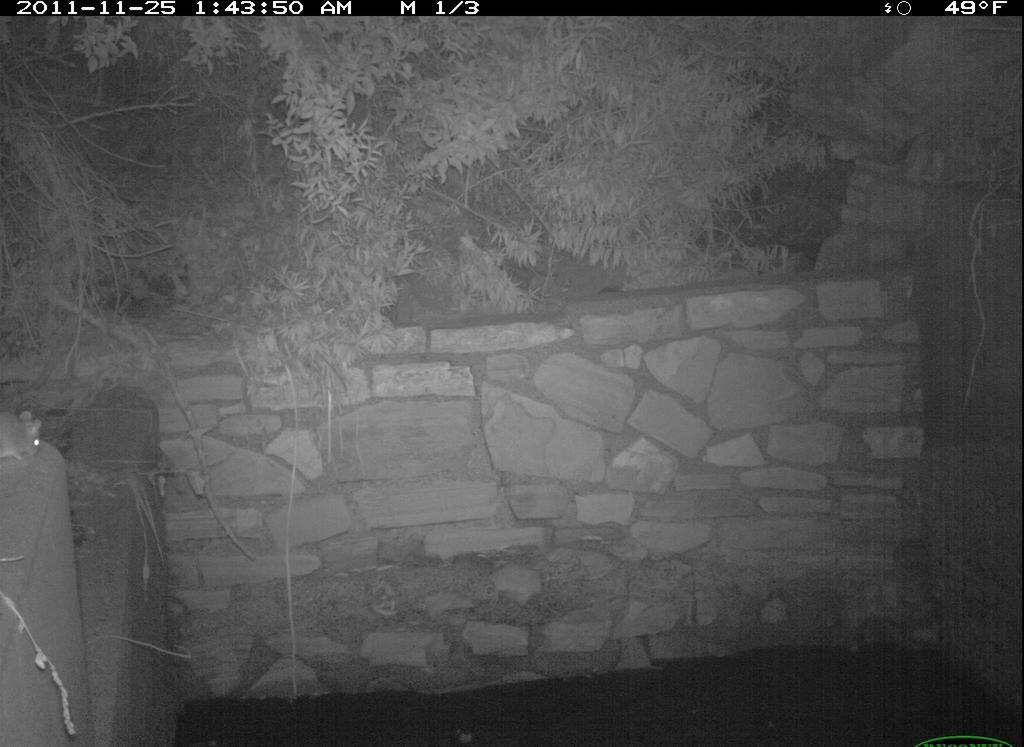rodent: (1, 401, 50, 470)
